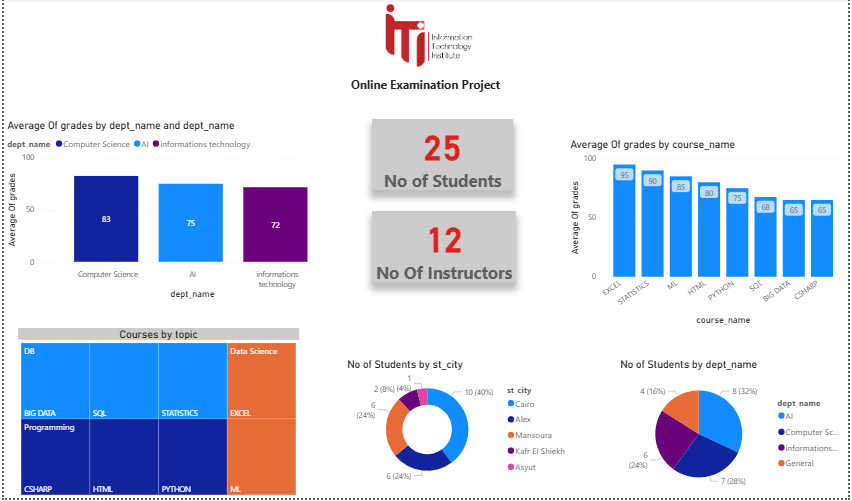

The page's visual inventory and layout, read from the dashboard file:
{"tool":"powerbi","page":{"name":"General","canvas":[1350,800],"ordinal":0},"visuals":[{"type":"card","title":"Students Count","fields":{"Values":["DAX Measures.No of Students"]},"box":[588.8,193.6,230,120],"z":0},{"type":"actionButton","box":[478.7,94.5,119.7,40.9],"z":2000},{"type":"card","title":"Instructors Count","fields":{"Values":["DAX Measures.No Of Instructors"]},"box":[588.8,340.8,230.4,120],"z":3000},{"type":"textbox","box":[0,23.6,1349.6,63],"z":4000},{"type":"treemap","title":"Courses by topic","fields":{"Group":["topic.topic_name"],"Values":["DAX Measures.No Of courses"],"Details":["courses.course_name"]},"box":[22,527.6,450.4,272.4],"z":5000},{"type":"pieChart","title":"Students by Department","fields":{"Category":["department.dept_name"],"Y":["DAX Measures.No of Students"]},"box":[952.8,527.6,398.4,272.4],"z":6000},{"type":"lineStackedColumnComboChart","title":"Average Grades by Course","fields":{"Category":["courses.course_name"],"Y":["DAX Measures.Average Of grades"]},"box":[869.3,173.2,480.3,319.7],"z":7000},{"type":"columnChart","title":"Average Grades by Department","fields":{"Y":["DAX Measures.Average Of grades"],"Category":["department.dept_name"],"Series":["department.dept_name"]},"box":[0,173.2,550,320],"z":8000},{"type":"donutChart","title":"Students by City","fields":{"Category":["students.st_city"],"Y":["DAX Measures.No of Students"]},"box":[478.7,527.6,450.4,272.4],"z":9000},{"type":"actionButton","box":[637.8,94.5,132.3,40.9],"z":9001},{"type":"actionButton","box":[804.7,94.5,129.1,40.9],"z":9002},{"type":"shape","box":[259.8,86.6,184.3,56.7],"z":9004}]}

Visuals, with their boxes in screenshot pixels (x1, y1, x2, y2), scaled from the page's 1350x800 canvas onto the 852x501 screenshot:
"Students Count" card: [372,121,517,196]
actionButton: [302,59,378,85]
"Instructors Count" card: [372,213,517,289]
textbox: [0,15,851,54]
"Courses by topic" treemap: [14,330,298,500]
"Students by Department" pieChart: [601,330,851,500]
"Average Grades by Course" lineStackedColumnComboChart: [549,108,851,309]
"Average Grades by Department" columnChart: [0,108,347,309]
"Students by City" donutChart: [302,330,586,500]
actionButton: [403,59,486,85]
actionButton: [508,59,589,85]
shape: [164,54,280,90]
